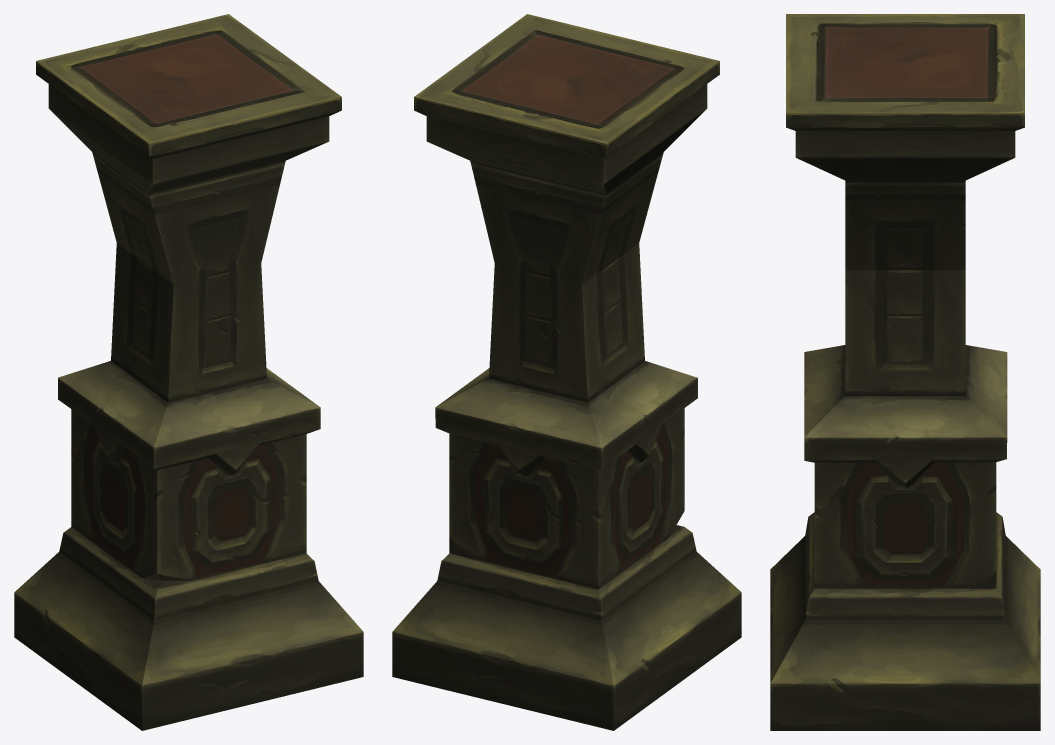
Rendered from PillarMid.dae.
3 views of the same model, side by side, from view 1: azimuth 30°, elevation 25°; view 2: azimuth 150°, elevation 25°; view 3: azimuth 270°, elevation 25° (orthographic). The views are drawn at different scales.
Visible parts, largest first — view 1: pillar01_b; view 2: pillar01_b; view 3: pillar01_b.
Boxes of the visible parts, x1=… form: pillar01_b: x1=14, y1=14, x2=363, y2=730; pillar01_b: x1=392, y1=14, x2=741, y2=730; pillar01_b: x1=770, y1=14, x2=1040, y2=730.
Size of the model in its own units: 1.61 by 1.61 by 4.
1 material, 1 textured.
